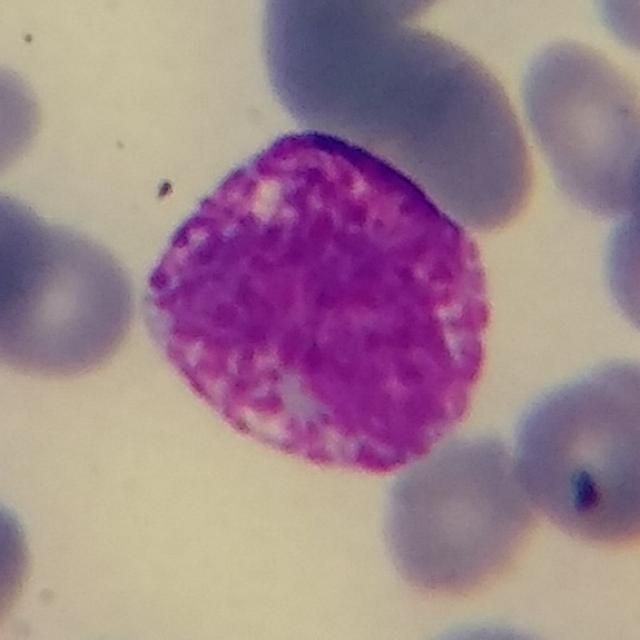baso: (141, 108, 505, 478)
